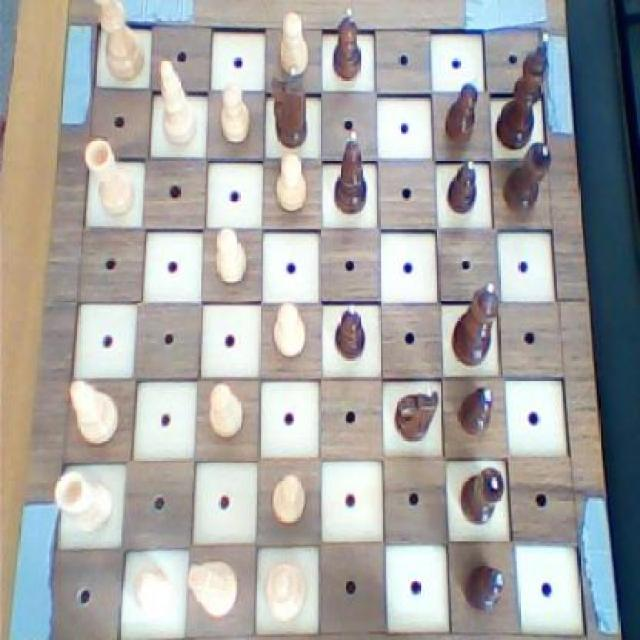bishop: (329, 126, 371, 221)
black-bishop: (491, 31, 550, 155)
black-king: (269, 63, 310, 155), (389, 384, 443, 448)
black-knight: (458, 558, 507, 618), (326, 5, 363, 84), (442, 156, 481, 217), (456, 384, 494, 444), (332, 303, 368, 365)
black-pawn: (446, 278, 500, 371)
black-queen: (500, 138, 557, 220), (455, 462, 508, 533)
black-rook: (64, 376, 124, 456), (152, 55, 200, 148)
white-bishop: (88, 0, 147, 89)
white-king: (186, 554, 242, 622)
white-knight: (128, 558, 178, 628), (271, 147, 311, 216), (264, 468, 310, 526), (217, 80, 255, 148), (275, 11, 313, 79), (269, 298, 309, 362), (212, 221, 250, 287), (207, 377, 246, 441)
white-pawn: (263, 558, 311, 624)
white-queen: (83, 129, 139, 231), (51, 466, 115, 539)
